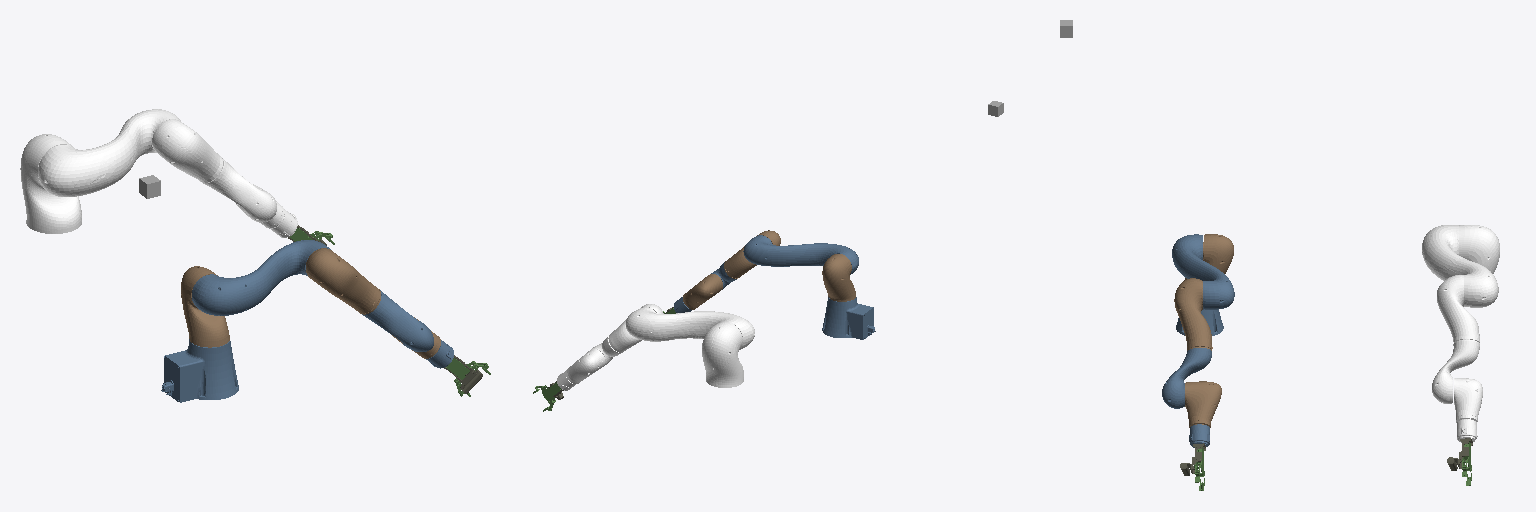
--- Render facts (derived) ---
3 views of the same robot in one strip: view 1: azimuth 30°, elevation 25°; view 2: azimuth 150°, elevation 25°; view 3: azimuth 270°, elevation 25° (orthographic).
Robot: hsr_co605_dual_arm_with_gripper — 34 links, 33 joints (12 revolute, 8 continuous, 13 fixed); root link world; default pose: all joints at 0 but 2 set to mid-range because 0 is outside their limits (joint_3 = 2.33, R_joint_3 = 2.33).
Visible links, largest first — view 1: R_link2, link2, base_link, R_link1, R_link3, link3, link1, R_link4, link4; view 2: R_link2, link2, R_link1, base_link, link1, link5, R_link5, link3, R_link3; view 3: R_link2, link2, link3, R_link3, R_link1, link5, R_link4, link4, R_link5, link1.
Link boxes in pixels (bbox=[...]): R_link2: bbox=[38, 109, 180, 196]; link2: bbox=[192, 240, 330, 315]; base_link: bbox=[161, 339, 238, 402]; R_link1: bbox=[20, 134, 81, 233]; R_link3: bbox=[152, 119, 222, 182]; link3: bbox=[306, 248, 380, 314]; link1: bbox=[181, 266, 229, 347]; R_link4: bbox=[203, 158, 276, 222]; link4: bbox=[362, 290, 433, 351]; R_link2: bbox=[626, 307, 754, 349]; link2: bbox=[743, 235, 858, 274]; R_link1: bbox=[702, 321, 743, 387]; base_link: bbox=[822, 297, 875, 339]; link1: bbox=[822, 254, 855, 301]; link5: bbox=[683, 274, 722, 309]; R_link5: bbox=[566, 349, 604, 383]; link3: bbox=[724, 230, 780, 278]; R_link3: bbox=[608, 304, 663, 352]; R_link2: bbox=[1422, 225, 1498, 307]; link2: bbox=[1172, 234, 1234, 309]; link3: bbox=[1174, 278, 1212, 350]; R_link3: bbox=[1437, 275, 1479, 342]; R_link1: bbox=[1459, 225, 1499, 273]; link5: bbox=[1185, 381, 1221, 427]; R_link4: bbox=[1432, 340, 1479, 403]; link4: bbox=[1162, 348, 1211, 408]; R_link5: bbox=[1454, 378, 1482, 422]; link1: bbox=[1184, 234, 1233, 280].
Bounding box of the posed robot: 1.54 × 1.65 × 1.27 m (x, y, z).
Meshes: 22 distinct files referenced, 29 mesh visuals loaded (21 binary STL); not drawn: 1 (reference not matched to a file when rendering).

robot.urdf — hsr_co605_dual_arm_with_gripper:
<?xml version="1.0" ?>
<!-- =================================================================================== -->
<!-- |    This document was autogenerated by xacro from co605_dual_arm_with_gripper.xacro | -->
<!-- |    EDITING THIS FILE BY HAND IS NOT RECOMMENDED                                 | -->
<!-- =================================================================================== -->
<robot name="hsr_co605_dual_arm_with_gripper" xmlns:xacro="http://ros.org/wiki/xacro">
  <link name="world"/>
  <joint name="fixed" type="fixed">
    <parent link="world"/>
    <child link="base_link"/>
    <origin rpy="0 0 0" xyz="0 0 1"/>
  </joint>
  <joint name="fixed2" type="fixed">
    <parent link="world"/>
    <child link="base_link2"/>
    <origin rpy="0 0 0" xyz="0.025 1 1"/>
  </joint>
  <link name="base_link">
    <inertial>
      <origin rpy="0 0 0" xyz="-0.021912 3.5206E-07 0.072666"/>
      <mass value="3.5836"/>
      <inertia ixx="2.9136E-05" ixy="-2.1811E-09" ixz="-0.00010967" iyy="0.00060536" iyz="-4.5389E-10" izz="0.000578"/>
    </inertial>
    <visual>
      <origin rpy="0 0 0" xyz="0 0 0"/>
      <geometry>
        <mesh filename="package://hsr_description/meshes/co605/base_link.STL"/>
      </geometry>
      <material name="">
        <color rgba="0.4 0.5 0.6 1"/>
      </material>
    </visual>
    <collision>
      <origin rpy="0 0 0" xyz="0 0 0"/>
      <geometry>
        <mesh filename="package://hsr_description/meshes/co605/base_link.STL"/>
      </geometry>
    </collision>
  </link>
  <link name="base_link2">
    <inertial>
      <origin rpy="0 0 0" xyz="-0.0024613 5.2375E-07 0.076752"/>
      <mass value="4.8818"/>
      <inertia ixx="0" ixy="0" ixz="0" iyy="0" iyz="0" izz="0"/>
    </inertial>
    <visual>
      <origin rpy="0 0 0" xyz="0 0 0"/>
      <geometry>
        <mesh filename="package://hsr_co602a_gaihou/meshes/base_link.STL"/>
      </geometry>
      <material name="">
        <color rgba="1 1 1 1"/>
      </material>
    </visual>
    <collision>
      <origin rpy="0 0 0" xyz="0 0 0"/>
      <geometry>
        <mesh filename="package://hsr_co602a_gaihou/meshes/base_link.STL"/>
      </geometry>
    </collision>
  </link>
  <!--  -->
  <link name="link1">
    <inertial>
      <origin rpy="0 0 0" xyz="6.6053E-07 -0.041864 0.057461"/>
      <mass value="2.2858"/>
      <inertia ixx="0.0028736" ixy="-1.2977E-08" ixz="-1.1421E-08" iyy="0.0012558" iyz="-0.0014242" izz="0.001619"/>
    </inertial>
    <visual>
      <origin rpy="0 0 0" xyz="0 0 0"/>
      <geometry>
        <mesh filename="package://hsr_description/meshes/co605/link1.STL"/>
      </geometry>
      <material name="">
        <color rgba="0.6 0.5 0.4 1"/>
      </material>
    </visual>
    <collision>
      <origin rpy="0 0 0" xyz="0 0 0"/>
      <geometry>
        <mesh filename="package://hsr_description/meshes/co605/link1.STL"/>
      </geometry>
    </collision>
  </link>
  <joint name="joint_1" type="revolute">
    <origin rpy="-3.1416 5.9903E-29 -1.4937E-16" xyz="0 0 0.3215"/>
    <parent link="base_link"/>
    <child link="link1"/>
    <axis xyz="0 0 -1"/>
    <limit effort="28" lower="-3.490658503988" upper="3.490658503988" velocity="3.2"/>
    <safety_controller k_position="100" k_velocity="10" soft_lower_limit="-3.481931857728" soft_upper_limit="3.481931857728"/>
  </joint>
  <link name="link2">
    <inertial>
      <origin rpy="0 0 0" xyz="1.0568E-05 -0.1934 0.0072764"/>
      <mass value="3.9796"/>
      <inertia ixx="0.024928" ixy="-9.3143E-07" ixz="4.2908E-07" iyy="0.0049988" iyz="0.0099684" izz="0.019932"/>
    </inertial>
    <visual>
      <origin rpy="0 0 0" xyz="0 0 0"/>
      <geometry>
        <mesh filename="package://hsr_description/meshes/co605/link2.STL"/>
      </geometry>
      <material name="">
        <color rgba="0.4 0.5 0.6 1"/>
      </material>
    </visual>
    <collision>
      <origin rpy="0 0 0" xyz="0 0 0"/>
      <geometry>
        <mesh filename="package://hsr_description/meshes/co605/link2.STL"/>
      </geometry>
    </collision>
  </link>
  <joint name="joint_2" type="revolute">
    <origin rpy="1.5708 -1.5708 0" xyz="0 0 0"/>
    <parent link="link1"/>
    <child link="link2"/>
    <axis xyz="0 0 1"/>
    <limit effort="28" lower="-2.268928027592" upper="1" velocity="3.2"/>
    <safety_controller k_position="100" k_velocity="10" soft_lower_limit="-2.260201381332" soft_upper_limit="1"/>
  </joint>
  <link name="link3">
    <inertial>
      <origin rpy="0 0 0" xyz="-4.1646E-06 -0.084864 -0.023661"/>
      <mass value="2.3017"/>
      <inertia ixx="0.0050619" ixy="1.9871E-07" ixz="-9.377E-08" iyy="0.00080339" iyz="0.0014584" izz="0.0043189"/>
    </inertial>
    <visual>
      <origin rpy="0 0 0" xyz="0 0 0"/>
      <geometry>
        <mesh filename="package://hsr_description/meshes/co605/link3.STL"/>
      </geometry>
      <material name="">
        <color rgba="0.6 0.5 0.4 1"/>
      </material>
    </visual>
    <collision>
      <origin rpy="0 0 0" xyz="0 0 0"/>
      <geometry>
        <mesh filename="package://hsr_description/meshes/co605/link3.STL"/>
      </geometry>
    </collision>
  </link>
  <joint name="joint_3" type="revolute">
    <origin rpy="-7.0321E-15 1.0327E-14 -1.5708" xyz="0 -0.4 0"/>
    <parent link="link2"/>
    <child link="link3"/>
    <axis xyz="0 0 1"/>
    <limit effort="28" lower="1" upper="3.665191429188" velocity="3.2"/>
    <safety_controller k_position="100" k_velocity="10" soft_lower_limit="0.008726646259" soft_upper_limit="3.656464782928"/>
  </joint>
  <link name="link4">
    <inertial>
      <origin rpy="0 0 0" xyz="0.058545 -4.4729E-06 0.33207"/>
      <mass value="1.1696"/>
      <inertia ixx="0.00052342" ixy="-2.9755E-08" ixz="-0.0004967" iyy="0.00099547" iyz="-3.1299E-08" izz="0.00047263"/>
    </inertial>
    <visual>
      <origin rpy="0 0 0" xyz="0 0 0"/>
      <geometry>
        <mesh filename="package://hsr_description/meshes/co605/link4.STL"/>
      </geometry>
      <material name="">
        <color rgba="0.4 0.5 0.6 1"/>
      </material>
    </visual>
    <collision>
      <origin rpy="0 0 0" xyz="0 0 0"/>
      <geometry>
        <mesh filename="package://hsr_description/meshes/co605/link4.STL"/>
      </geometry>
    </collision>
  </link>
  <joint name="joint_4" type="revolute">
    <origin rpy="1.5708 1.5708 0" xyz="0 0 0"/>
    <parent link="link3"/>
    <child link="link4"/>
    <axis xyz="0 0 1"/>
    <limit effort="28" lower="-1.0" upper="3.0" velocity="3.2"/>
    <safety_controller k_position="100" k_velocity="10" soft_lower_limit="-3.0" soft_upper_limit="3.0"/>
  </joint>
  <link name="link5">
    <inertial>
      <origin rpy="0 0 0" xyz="-1.4755E-07 -0.034466 0.0044663"/>
      <mass value="1.4115"/>
      <inertia ixx="0.0015897" ixy="-6.782E-09" ixz="-1.3146E-08" iyy="0.0006121" iyz="-0.00040625" izz="0.00097818"/>
    </inertial>
    <visual>
      <origin rpy="0 0 0" xyz="0 0 0"/>
      <geometry>
        <mesh filename="package://hsr_description/meshes/co605/link5.STL"/>
      </geometry>
      <material name="">
        <color rgba="0.6 0.5 0.4 1"/>
      </material>
    </visual>
    <collision>
      <origin rpy="0 0 0" xyz="0 0 0"/>
      <geometry>
        <mesh filename="package://hsr_description/meshes/co605/link5.STL"/>
      </geometry>
    </collision>
  </link>
  <joint name="joint_5" type="revolute">
    <origin rpy="-1.5708 -3.2281E-16 1.5708" xyz="0 0 0.4"/>
    <parent link="link4"/>
    <child link="link5"/>
    <axis xyz="0 0 1"/>
    <limit effort="28" lower="-2.268928027592" upper="2.268928027592" velocity="3.2"/>
    <safety_controller k_position="100" k_velocity="10" soft_lower_limit="-2.260201381332" soft_upper_limit="2.260201381332"/>
  </joint>
  <link name="link6">
    <inertial>
      <origin rpy="0 0 0" xyz="-9.6295E-05 0.00016669 -0.035518"/>
      <mass value="0.30888"/>
      <inertia ixx="8.8278E-05" ixy="-1.1971E-06" ixz="3.4899E-07" iyy="8.9661E-05" iyz="-6.0395E-07" izz="5.5013E-06"/>
    </inertial>
    <visual>
      <origin rpy="0 0 0" xyz="0 0 0"/>
      <geometry>
        <mesh filename="package://hsr_description/meshes/co605/link6.STL"/>
      </geometry>
      <material name="">
        <color rgba="0.4 0.5 0.6 1"/>
      </material>
    </visual>
    <collision>
      <origin rpy="0 0 0" xyz="0 0 0"/>
      <geometry>
        <mesh filename="package://hsr_description/meshes/co605/link6.STL"/>
      </geometry>
    </collision>
  </link>
  <joint name="joint_6" type="revolute">
    <origin rpy="-1.5708 2.7756E-17 -3.1416" xyz="0 -0.205 0"/>
    <parent link="link5"/>
    <child link="link6"/>
    <axis xyz="0 0 1"/>
    <limit effort="28" lower="-5.1" upper="5.1" velocity="3.2"/>
    <safety_controller k_position="100" k_velocity="10" soft_lower_limit="-5.1" soft_upper_limit="5.1"/>
  </joint>
  <!--    -->
  <link name="R_link1">
    <inertial>
      <origin rpy="0 0 0" xyz="-3.5083E-06 -0.029409 0.065583"/>
      <mass value="4.9043"/>
      <inertia ixx="0" ixy="0" ixz="0" iyy="0" iyz="0" izz="0"/>
    </inertial>
    <visual>
      <origin rpy="0 0 0" xyz="0 0 0"/>
      <geometry>
        <mesh filename="package://hsr_co602a_gaihou/meshes/Link1.STL"/>
      </geometry>
      <material name="">
        <color rgba="1 1 1 1"/>
      </material>
    </visual>
    <collision>
      <origin rpy="0 0 0" xyz="0 0 0"/>
      <geometry>
        <mesh filename="package://hsr_co602a_gaihou/meshes/Link1.STL"/>
      </geometry>
    </collision>
  </link>
  <joint name="R_joint_1" type="revolute">
    <origin rpy="3.1416 0 -8.3267E-17" xyz="0 0 0.3517"/>
    <parent link="base_link2"/>
    <child link="R_link1"/>
    <axis xyz="0 0 -1"/>
    <limit effort="28" lower="-3.490658503988" upper="3.490658503988" velocity="3.2"/>
    <safety_controller k_position="100" k_velocity="10" soft_lower_limit="-3.481931857728" soft_upper_limit="3.481931857728"/>
  </joint>
  <link name="R_link2">
    <inertial>
      <origin rpy="0 0 0" xyz="4.8764E-06 -0.17949 -0.038569"/>
      <mass value="6.5305"/>
      <inertia ixx="0" ixy="0" ixz="0" iyy="0" iyz="0" izz="0"/>
    </inertial>
    <visual>
      <origin rpy="0 0 0" xyz="0 0 0"/>
      <geometry>
        <mesh filename="package://hsr_co602a_gaihou/meshes/Link2.STL"/>
      </geometry>
      <material name="">
        <color rgba="1 1 1 1"/>
      </material>
    </visual>
    <collision>
      <origin rpy="0 0 0" xyz="0 0 0"/>
      <geometry>
        <mesh filename="package://hsr_co602a_gaihou/meshes/Link2.STL"/>
      </geometry>
    </collision>
  </link>
  <joint name="R_joint_2" type="revolute">
    <origin rpy="1.5708 -1.5708 0" xyz="0 0 0"/>
    <parent link="R_link1"/>
    <child link="R_link2"/>
    <axis xyz="0 0 1"/>
    <limit effort="28" lower="-2.268928027592" upper="1" velocity="3.2"/>
    <safety_controller k_position="100" k_velocity="10" soft_lower_limit="-2.260201381332" soft_upper_limit="1"/>
  </joint>
  <link name="R_link3">
    <inertial>
      <origin rpy="0 0 0" xyz="-4.0966E-05 -0.085254 -0.035956"/>
      <mass value="2.3223"/>
      <inertia ixx="0" ixy="0" ixz="0" iyy="0" iyz="0" izz="0"/>
    </inertial>
    <visual>
      <origin rpy="0 0 0" xyz="0 0 0"/>
      <geometry>
        <mesh filename="package://hsr_co602a_gaihou/meshes/Link3.STL"/>
      </geometry>
      <material name="">
        <color rgba="1 1 1 1"/>
      </material>
    </visual>
    <collision>
      <origin rpy="0 0 0" xyz="0 0 0"/>
      <geometry>
        <mesh filename="package://hsr_co602a_gaihou/meshes/Link3.STL"/>
      </geometry>
    </collision>
  </link>
  <joint name="R_joint_3" type="revolute">
    <origin rpy="-3.688E-17 1.4367E-17 -1.5708" xyz="0 -0.40061 0"/>
    <parent link="R_link2"/>
    <child link="R_link3"/>
    <axis xyz="0 0 1"/>
    <limit effort="28" lower="1" upper="3.665191429188" velocity="3.2"/>
    <safety_controller k_position="100" k_velocity="10" soft_lower_limit="0.008726646259" soft_upper_limit="3.656464782928"/>
  </joint>
  <link name="R_link4">
    <inertial>
      <origin rpy="0 0 0" xyz="0.049764 2.8231E-06 0.32133"/>
      <mass value="1.2629"/>
      <inertia ixx="0" ixy="0" ixz="0" iyy="0" iyz="0" izz="0"/>
    </inertial>
    <visual>
      <origin rpy="0 0 0" xyz="0 0 0"/>
      <geometry>
        <mesh filename="package://hsr_co602a_gaihou/meshes/Link4.STL"/>
      </geometry>
      <material name="">
        <color rgba="1 1 1 1"/>
      </material>
    </visual>
    <collision>
      <origin rpy="0 0 0" xyz="0 0 0"/>
      <geometry>
        <mesh filename="package://hsr_co602a_gaihou/meshes/Link4.STL"/>
      </geometry>
    </collision>
  </link>
  <joint name="R_joint_4" type="revolute">
    <origin rpy="1.2216 1.5708 -0.34916" xyz="0 -0.0023254 0"/>
    <parent link="R_link3"/>
    <child link="R_link4"/>
    <axis xyz="0 0 1"/>
    <limit effort="28" lower="-3.0" upper="1.0" velocity="3.2"/>
    <safety_controller k_position="100" k_velocity="10" soft_lower_limit="-3.0" soft_upper_limit="3.0"/>
  </joint>
  <link name="R_link5">
    <inertial>
      <origin rpy="0 0 0" xyz="1.3212E-06 -0.042021 0.0022165"/>
      <mass value="1.1452"/>
      <inertia ixx="0" ixy="0" ixz="0" iyy="0" iyz="0" izz="0"/>
    </inertial>
    <visual>
      <origin rpy="0 0 0" xyz="0 0 0"/>
      <geometry>
        <mesh filename="package://hsr_co602a_gaihou/meshes/Link5.STL"/>
      </geometry>
      <material name="">
        <color rgba="1 1 1 1"/>
      </material>
    </visual>
    <collision>
      <origin rpy="0 0 0" xyz="0 0 0"/>
      <geometry>
        <mesh filename="package://hsr_co602a_gaihou/meshes/Link5.STL"/>
      </geometry>
    </collision>
  </link>
  <joint name="R_joint_5" type="revolute">
    <origin rpy="-1.5708 -1.4529E-17 1.5708" xyz="0 0 0.39859"/>
    <parent link="R_link4"/>
    <child link="R_link5"/>
    <axis xyz="0 0 1"/>
    <limit effort="28" lower="-2.268928027592" upper="2.268928027592" velocity="3.2"/>
    <safety_controller k_position="100" k_velocity="10" soft_lower_limit="-2.260201381332" soft_upper_limit="2.260201381332"/>
  </joint>
  <link name="R_link6">
    <inertial>
      <origin rpy="0 0 0" xyz="3.5784E-05 -3.8806E-05 -0.025197"/>
      <mass value="0.20458"/>
      <inertia ixx="0" ixy="0" ixz="0" iyy="0" iyz="0" izz="0"/>
    </inertial>
    <visual>
      <origin rpy="0 0 0" xyz="0 0 0"/>
      <geometry>
        <mesh filename="package://hsr_co602a_gaihou/meshes/Link6.STL"/>
      </geometry>
      <material name="">
        <color rgba="1 1 1 1"/>
      </material>
    </visual>
    <collision>
      <origin rpy="0 0 0" xyz="0 0 0"/>
      <geometry>
        <mesh filename="package://hsr_co602a_gaihou/meshes/Link6.STL"/>
      </geometry>
    </collision>
  </link>
  <joint name="R_joint_6" type="revolute">
    <origin rpy="-1.5708 2.4478E-17 -3.1416" xyz="0 -0.20056 0"/>
    <parent link="R_link5"/>
    <child link="R_link6"/>
    <axis xyz="0 0 1"/>
    <limit effort="28" lower="-5.1" upper="5.1" velocity="3.2"/>
    <safety_controller k_position="100" k_velocity="10" soft_lower_limit="-5.1" soft_upper_limit="5.1"/>
  </joint>
  <!-- Size of square 'camera' box -->
  <link name="camera_link">
    <collision>
      <origin rpy="0 0 0" xyz="0 0 0"/>
      <geometry>
        <box size="0.05 0.05 0.05"/>
      </geometry>
    </collision>
    <visual>
      <origin rpy="0 0 0" xyz="0 0 0"/>
      <geometry>
        <box size="0.05 0.05 0.05"/>
      </geometry>
      <material name="red"/>
    </visual>
    <inertial>
      <mass value="1e-5"/>
      <origin rpy="0 0 0" xyz="0 0 0"/>
      <inertia ixx="1e-6" ixy="0" ixz="0" iyy="1e-6" iyz="0" izz="1e-6"/>
    </inertial>
  </link>
  <!-- kinect -->
  <gazebo reference="camera_link">
    <sensor name="openni_camera_camera" type="depth">
      <always_on>1</always_on>
      <visualize>true</visualize>
      <camera>
        <horizontal_fov>1.047</horizontal_fov>
        <image>
          <width>640</width>
          <height>480</height>
          <format>B8G8R8</format>
        </image>
        <depth_camera>

            </depth_camera>
        <clip>
          <near>0.1</near>
          <far>100</far>
        </clip>
      </camera>
      <plugin filename="libgazebo_ros_openni_kinect.so" name="camera_controller">
        <alwaysOn>true</alwaysOn>
        <baseline>0.2</baseline>
        <updateRate>30</updateRate>
        <cameraName>camera</cameraName>
        <frameName>kinect_frame</frameName>
        <imageTopicName>rgb/image_raw</imageTopicName>
        <depthImageTopicName>depth/image_raw</depthImageTopicName>
        <pointCloudTopicName>depth/points</pointCloudTopicName>
        <cameraInfoTopicName>rgb/camera_info</cameraInfoTopicName>
        <depthImageCameraInfoTopicName>depth/camera_info</depthImageCameraInfoTopicName>
        <pointCloudCutoff>0.5</pointCloudCutoff>
        <distortionK1>0</distortionK1>
        <distortionK2>0</distortionK2>
        <distortionK3>0</distortionK3>
        <distortionT1>0</distortionT1>
        <distortionT2>0</distortionT2>
        <CxPrime>0.0</CxPrime>
        <Cx>0.0</Cx>
        <Cy>0.0</Cy>
        <focalLength>0.0</focalLength>
      </plugin>
    </sensor>
  </gazebo>
  <link name="gripper_base_link_0">
    <inertial>
      <origin rpy="0 0 0" xyz="0.000131706391042187 -0.0390683856464977 0.081199520192839"/>
      <mass value="0.145677232438391"/>
      <inertia ixx="8.40495062422861E-05" ixy="-6.82136717259575E-07" ixz="9.08788702310012E-07" iyy="4.96036917958725E-05" iyz="3.95062698042515E-05" izz="3.44803015215572E-05"/>
    </inertial>
    <visual>
      <origin rpy="0 0 0" xyz="0 0 0"/>
      <geometry>
        <mesh filename="package://hsr_description/meshes/eye_hand_gripper/base_link.STL"/>
      </geometry>
      <material name="">
        <color rgba="0.4 0.4 0.35 1"/>
      </material>
    </visual>
    <collision>
      <origin rpy="0 0 0" xyz="0 0 0"/>
      <geometry>
        <mesh filename="package://hsr_description/meshes/eye_hand_gripper/base_link.STL"/>
      </geometry>
    </collision>
  </link>
  <link name="grisper_boby_link_0">
    <inertial>
      <origin rpy="0 0 0" xyz="2.84228059294067E-05 -0.000875529500481004 -0.00997402814116276"/>
      <mass value="0.0387962759306602"/>
      <inertia ixx="0" ixy="0" ixz="0" iyy="0" iyz="0" izz="0"/>
    </inertial>
    <visual>
      <origin rpy="0 0 0" xyz="0 0 0"/>
      <geometry>
        <mesh filename="package://hsr_description/meshes/eye_hand_gripper/grisper_boby_link.STL"/>
      </geometry>
      <material name="">
        <color rgba="0.4 0.55 0.35 1"/>
      </material>
    </visual>
    <collision>
      <origin rpy="0 0 0" xyz="0 0 0"/>
      <geometry>
        <mesh filename="package://hsr_description/meshes/eye_hand_gripper/grisper_boby_link.STL"/>
      </geometry>
    </collision>
  </link>
  <joint name="grisper_boby_joint_0" type="fixed">
    <origin rpy="1.5708 1.3479E-15 1.3852E-15" xyz="0 -0.01 0.064"/>
    <parent link="gripper_base_link_0"/>
    <child link="grisper_boby_link_0"/>
    <axis xyz="0 0 0"/>
  </joint>
  <link name="right_finger_1_link_0">
    <inertial>
      <origin rpy="0 0 0" xyz="-2.92388038200531E-06 0.0168231601122346 0.0089790044607883"/>
      <mass value="0.00235032514171626"/>
      <inertia ixx="0" ixy="0" ixz="0" iyy="0" iyz="0" izz="0"/>
    </inertial>
    <visual>
      <origin rpy="0 0 0" xyz="0 0 0"/>
      <geometry>
        <mesh filename="package://hsr_description/meshes/eye_hand_gripper/right_finger_1_link.STL"/>
      </geometry>
      <material name="">
        <color rgba="0.4 0.55 0.35 1"/>
      </material>
    </visual>
    <collision>
      <origin rpy="0 0 0" xyz="0 0 0"/>
      <geometry>
        <mesh filename="package://hsr_description/meshes/eye_hand_gripper/right_finger_1_link.STL"/>
      </geometry>
    </collision>
  </link>
  <joint name="right_finger_1_joint_0" type="continuous">
    <origin rpy="0 0 -0.501740656078991" xyz="0.04 0.036 -0.019"/>
    <parent link="grisper_boby_link_0"/>
    <child link="right_finger_1_link_0"/>
    <axis xyz="0 0 1"/>
  </joint>
  <link name="right_finger_2_link_0">
    <inertial>
      <origin rpy="0 0 0" xyz="-0.0085798133911776 0.00661394976740351 0.00600000756322747"/>
      <mass value="0.00200167864656235"/>
      <inertia ixx="0" ixy="0" ixz="0" iyy="0" iyz="0" izz="0"/>
    </inertial>
    <visual>
      <origin rpy="0 0 0" xyz="0 0 0"/>
      <geometry>
        <mesh filename="package://hsr_description/meshes/eye_hand_gripper/right_finger_2_link.STL"/>
      </geometry>
      <material name="">
        <color rgba="0.4 0.55 0.35 1"/>
      </material>
    </visual>
    <collision>
      <origin rpy="0 0 0" xyz="0 0 0"/>
      <geometry>
        <mesh filename="package://hsr_description/meshes/eye_hand_gripper/right_finger_2_link.STL"/>
      </geometry>
    </collision>
  </link>
  <joint name="right_finger_2_joint_0" type="continuous">
    <origin rpy="0 0 0.501740656078991" xyz="0 0.042 0.00300000000000001"/>
    <parent link="right_finger_1_link_0"/>
    <child link="right_finger_2_link_0"/>
    <axis xyz="0 0 1"/>
  </joint>
  <link name="right_finger_end_link_0">
    <inertial>
      <origin rpy="0 0 0" xyz="-0.0181096606742553 0.00899999232533871 0.000419374358405108"/>
      <mass value="0.00169081070175499"/>
      <inertia ixx="0" ixy="0" ixz="0" iyy="0" iyz="0" izz="0"/>
    </inertial>
    <visual>
      <origin rpy="0 0 0" xyz="0 0 0"/>
      <geometry>
        <mesh filename="package://hsr_description/meshes/eye_hand_gripper/right_finger_end_link.STL"/>
      </geometry>
      <material name="">
        <color rgba="0.4 0.55 0.35 1"/>
      </material>
    </visual>
    <collision>
      <origin rpy="0 0 0" xyz="0 0 0"/>
      <geometry>
        <mesh filename="package://hsr_description/meshes/eye_hand_gripper/right_finger_end_link.STL"/>
      </geometry>
    </collision>
  </link>
  <joint name="right_finger_end_joint_0" type="fixed">
    <origin rpy="1.5707963267949 0 -1.5707963267949" xyz="-0.0145 -0.0035 -0.00300000000000001"/>
    <parent link="right_finger_2_link_0"/>
    <child link="right_finger_end_link_0"/>
    <axis xyz="0 0 0"/>
  </joint>
  <link name="left_finger_1_link_0">
    <inertial>
      <origin rpy="0 0 0" xyz="-2.92395601426965E-06 0.0168231599777492 0.00897900452955606"/>
      <mass value="0.0023503251697047"/>
      <inertia ixx="0" ixy="0" ixz="0" iyy="0" iyz="0" izz="0"/>
    </inertial>
    <visual>
      <origin rpy="0 0 0" xyz="0 0 0"/>
      <geometry>
        <mesh filename="package://hsr_description/meshes/eye_hand_gripper/left_finger_1_link.STL"/>
      </geometry>
      <material name="">
        <color rgba="0.4 0.55 0.35 1"/>
      </material>
    </visual>
    <collision>
      <origin rpy="0 0 0" xyz="0 0 0"/>
      <geometry>
        <mesh filename="package://hsr_description/meshes/eye_hand_gripper/left_finger_1_link.STL"/>
      </geometry>
    </collision>
  </link>
  <joint name="left_finger_1_joint_0" type="continuous">
    <origin rpy="0 0 0.501740656078991" xyz="-0.04 0.036 -0.019"/>
    <parent link="grisper_boby_link_0"/>
    <child link="left_finger_1_link_0"/>
    <axis xyz="0 0 1"/>
  </joint>
  <link name="left_finger_2_link_0">
    <inertial>
      <origin rpy="0 0 0" xyz="-0.00857981339117761 0.00661394976740348 0.00600000756322748"/>
      <mass value="0.00200167864656235"/>
      <inertia ixx="0" ixy="0" ixz="0" iyy="0" iyz="0" izz="0"/>
    </inertial>
    <visual>
      <origin rpy="0 0 0" xyz="0 0 0"/>
      <geometry>
        <mesh filename="package://hsr_description/meshes/eye_hand_gripper/left_finger_2_link.STL"/>
      </geometry>
      <material name="">
        <color rgba="0.4 0.55 0.35 1"/>
      </material>
    </visual>
    <collision>
      <origin rpy="0 0 0" xyz="0 0 0"/>
      <geometry>
        <mesh filename="package://hsr_description/meshes/eye_hand_gripper/left_finger_2_link.STL"/>
      </geometry>
    </collision>
  </link>
  <joint name="left_finger_2_joint_0" type="continuous">
    <origin rpy="3.14159265358979 0 2.6398519975108" xyz="0 0.0419999999999999 0.0149999999999995"/>
    <parent link="left_finger_1_link_0"/>
    <child link="left_finger_2_link_0"/>
    <axis xyz="0 0 1"/>
  </joint>
  <link name="left_finger_end_link_0">
    <inertial>
      <origin rpy="0 0 0" xyz="-0.0181096606742553 0.00899999232533872 0.000419374358405097"/>
      <mass value="0.00169081070175499"/>
      <inertia ixx="0" ixy="0" ixz="0" iyy="0" iyz="0" izz="0"/>
    </inertial>
    <visual>
      <origin rpy="0 0 0" xyz="0 0 0"/>
      <geometry>
        <mesh filename="package://hsr_description/meshes/eye_hand_gripper/left_finger_end_link.STL"/>
      </geometry>
      <material name="">
        <color rgba="0.4 0.55 0.35 1"/>
      </material>
    </visual>
    <collision>
      <origin rpy="0 0 0" xyz="0 0 0"/>
      <geometry>
        <mesh filename="package://hsr_description/meshes/eye_hand_gripper/left_finger_end_link.STL"/>
      </geometry>
    </collision>
  </link>
  <joint name="left_finger_end_joint_0" type="fixed">
    <origin rpy="1.5707963267949 8.67361737988403E-17 -1.5707963267949" xyz="-0.0144999999999999 -0.0035 -0.00299999999999996"/>
    <parent link="left_finger_2_link_0"/>
    <child link="left_finger_end_link_0"/>
    <axis xyz="0 0 0"/>
  </joint>
  <link name="pick_gripper_link_0">
    <visual>
      <origin rpy="0 0 0" xyz="0 0 0"/>
      <geometry>
        <box size="0.001 0.0005 0.0005"/>
      </geometry>
    </visual>
  </link>
  <transmission name="tran1_0">
    <type>transmission_interface/SimpleTransmission</type>
    <joint name="right_finger_1_joint_0">
      <hardwareInterface>PositionJointInterface</hardwareInterface>
    </joint>
    <actuator name="right_finger_1_motor_0">
      <hardwareInterface>PositionJointInterface</hardwareInterface>
      <mechanicalReduction>1</mechanicalReduction>
    </actuator>
  </transmission>
  <transmission name="tran2_0">
    <type>transmission_interface/SimpleTransmission</type>
    <joint name="right_finger_2_joint_0">
      <hardwareInterface>PositionJointInterface</hardwareInterface>
    </joint>
    <actuator name="right_finger_2_motor_0">
      <hardwareInterface>PositionJointInterface</hardwareInterface>
      <mechanicalReduction>1</mechanicalReduction>
    </actuator>
  </transmission>
  <transmission name="tran3_0">
    <type>transmission_interface/SimpleTransmission</type>
    <joint name="left_finger_1_joint_0">
      <hardwareInterface>PositionJointInterface</hardwareInterface>
    </joint>
    <actuator name="left_finger_1_motor_0">
      <hardwareInterface>PositionJointInterface</hardwareInterface>
      <mechanicalReduction>1</mechanicalReduction>
    </actuator>
  </transmission>
  <transmission name="tran4_0">
    <type>transmission_interface/SimpleTransmission</type>
    <joint name="left_finger_2_joint_0">
      <hardwareInterface>PositionJointInterface</hardwareInterface>
    </joint>
    <actuator name="left_finger_2_motor_0">
      <hardwareInterface>PositionJointInterface</hardwareInterface>
      <mechanicalReduction>1</mechanicalReduction>
    </actuator>
  </transmission>
  <link name="gripper_base_link_1">
    <inertial>
      <origin rpy="0 0 0" xyz="0.000131706391042187 -0.0390683856464977 0.081199520192839"/>
      <mass value="0.145677232438391"/>
      <inertia ixx="8.40495062422861E-05" ixy="-6.82136717259575E-07" ixz="9.08788702310012E-07" iyy="4.96036917958725E-05" iyz="3.95062698042515E-05" izz="3.44803015215572E-05"/>
    </inertial>
    <visual>
      <origin rpy="0 0 0" xyz="0 0 0"/>
      <geometry>
        <mesh filename="package://hsr_description/meshes/eye_hand_gripper/base_link.STL"/>
      </geometry>
      <material name="">
        <color rgba="0.4 0.4 0.35 1"/>
      </material>
    </visual>
    <collision>
      <origin rpy="0 0 0" xyz="0 0 0"/>
      <geometry>
        <mesh filename="package://hsr_description/meshes/eye_hand_gripper/base_link.STL"/>
      </geometry>
    </collision>
  </link>
  <link name="grisper_boby_link_1">
    <inertial>
      <origin rpy="0 0 0" xyz="2.84228059294067E-05 -0.000875529500481004 -0.00997402814116276"/>
      <mass value="0.0387962759306602"/>
      <inertia ixx="0" ixy="0" ixz="0" iyy="0" iyz="0" izz="0"/>
    </inertial>
    <visual>
      <origin rpy="0 0 0" xyz="0 0 0"/>
      <geometry>
        <mesh filename="package://hsr_description/meshes/eye_hand_gripper/grisper_boby_link.STL"/>
      </geometry>
      <material name="">
        <color rgba="0.4 0.55 0.35 1"/>
      </material>
    </visual>
    <collision>
      <origin rpy="0 0 0" xyz="0 0 0"/>
      <geometry>
        <mesh filename="package://hsr_description/meshes/eye_hand_gripper/grisper_boby_link.STL"/>
      </geometry>
    </collision>
  </link>
  <joint name="grisper_boby_joint_1" type="fixed">
    <origin rpy="1.5708 1.3479E-15 1.3852E-15" xyz="0 -0.01 0.064"/>
    <parent link="gripper_base_link_1"/>
    <child link="grisper_boby_link_1"/>
    <axis xyz="0 0 0"/>
  </joint>
  <link name="right_finger_1_link_1">
    <inertial>
      <origin rpy="0 0 0" xyz="-2.92388038200531E-06 0.0168231601122346 0.0089790044607883"/>
      <mass value="0.00235032514171626"/>
      <inertia ixx="0" ixy="0" ixz="0" iyy="0" iyz="0" izz="0"/>
    </inertial>
    <visual>
      <origin rpy="0 0 0" xyz="0 0 0"/>
      <geometry>
        <mesh filename="package://hsr_description/meshes/eye_hand_gripper/right_finger_1_link.STL"/>
      </geometry>
      <material name="">
        <color rgba="0.4 0.55 0.35 1"/>
      </material>
    </visual>
    <collision>
      <origin rpy="0 0 0" xyz="0 0 0"/>
      <geometry>
        <mesh filename="package://hsr_description/meshes/eye_hand_gripper/right_finger_1_link.STL"/>
      </geometry>
    </collision>
  </link>
  <joint name="right_finger_1_joint_1" type="continuous">
    <origin rpy="0 0 -0.501740656078991" xyz="0.04 0.036 -0.019"/>
    <parent link="grisper_boby_link_1"/>
    <child link="right_finger_1_link_1"/>
    <axis xyz="0 0 1"/>
  </joint>
  <link name="right_finger_2_link_1">
    <inertial>
      <origin rpy="0 0 0" xyz="-0.0085798133911776 0.00661394976740351 0.00600000756322747"/>
      <mass value="0.00200167864656235"/>
      <inertia ixx="0" ixy="0" ixz="0" iyy="0" iyz="0" izz="0"/>
    </inertial>
    <visual>
      <origin rpy="0 0 0" xyz="0 0 0"/>
      <geometry>
        <mesh filename="package://hsr_description/meshes/eye_hand_gripper/right_finger_2_link.STL"/>
      </geometry>
      <material name="">
        <color rgba="0.4 0.55 0.35 1"/>
      </material>
    </visual>
    <collision>
      <origin rpy="0 0 0" xyz="0 0 0"/>
      <geometry>
        <mesh filename="package://hsr_description/meshes/eye_hand_gripper/right_finger_2_link.STL"/>
      </geometry>
    </collision>
  </link>
  <joint name="right_finger_2_joint_1" type="continuous">
    <origin rpy="0 0 0.501740656078991" xyz="0 0.042 0.00300000000000001"/>
    <parent link="right_finger_1_link_1"/>
    <child link="right_finger_2_link_1"/>
    <axis xyz="0 0 1"/>
  </joint>
  <link name="right_finger_end_link_1">
    <inertial>
      <origin rpy="0 0 0" xyz="-0.0181096606742553 0.00899999232533871 0.000419374358405108"/>
      <mass value="0.00169081070175499"/>
      <inertia ixx="0" ixy="0" ixz="0" iyy="0" iyz="0" izz="0"/>
    </inertial>
    <visual>
      <origin rpy="0 0 0" xyz="0 0 0"/>
      <geometry>
        <mesh filename="package://hsr_description/meshes/eye_hand_gripper/right_finger_end_link.STL"/>
      </geometry>
      <material name="">
        <color rgba="0.4 0.55 0.35 1"/>
      </material>
    </visual>
    <collision>
      <origin rpy="0 0 0" xyz="0 0 0"/>
      <geometry>
        <mesh filename="package://hsr_description/meshes/eye_hand_gripper/right_finger_end_link.STL"/>
      </geometry>
    </collision>
  </link>
  <joint name="right_finger_end_joint_1" type="fixed">
    <origin rpy="1.5707963267949 0 -1.5707963267949" xyz="-0.0145 -0.0035 -0.00300000000000001"/>
    <parent link="right_finger_2_link_1"/>
    <child link="right_finger_end_link_1"/>
    <axis xyz="0 0 0"/>
  </joint>
  <link name="left_finger_1_link_1">
    <inertial>
      <origin rpy="0 0 0" xyz="-2.92395601426965E-06 0.0168231599777492 0.00897900452955606"/>
      <mass value="0.0023503251697047"/>
      <inertia ixx="0" ixy="0" ixz="0" iyy="0" iyz="0" izz="0"/>
    </inertial>
    <visual>
      <origin rpy="0 0 0" xyz="0 0 0"/>
      <geometry>
        <mesh filename="package://hsr_description/meshes/eye_hand_gripper/left_finger_1_link.STL"/>
      </geometry>
      <material name="">
        <color rgba="0.4 0.55 0.35 1"/>
      </material>
    </visual>
    <collision>
      <origin rpy="0 0 0" xyz="0 0 0"/>
      <geometry>
        <mesh filename="package://hsr_description/meshes/eye_hand_gripper/left_finger_1_link.STL"/>
      </geometry>
    </collision>
  </link>
  <joint name="left_finger_1_joint_1" type="continuous">
    <origin rpy="0 0 0.501740656078991" xyz="-0.04 0.036 -0.019"/>
    <parent link="grisper_boby_link_1"/>
    <child link="left_finger_1_link_1"/>
    <axis xyz="0 0 1"/>
  </joint>
  <link name="left_finger_2_link_1">
    <inertial>
      <origin rpy="0 0 0" xyz="-0.00857981339117761 0.00661394976740348 0.00600000756322748"/>
      <mass value="0.00200167864656235"/>
      <inertia ixx="0" ixy="0" ixz="0" iyy="0" iyz="0" izz="0"/>
    </inertial>
    <visual>
      <origin rpy="0 0 0" xyz="0 0 0"/>
      <geometry>
        <mesh filename="package://hsr_description/meshes/eye_hand_gripper/left_finger_2_link.STL"/>
      </geometry>
      <material name="">
        <color rgba="0.4 0.55 0.35 1"/>
      </material>
    </visual>
    <collision>
      <origin rpy="0 0 0" xyz="0 0 0"/>
      <geometry>
        <mesh filename="package://hsr_description/meshes/eye_hand_gripper/left_finger_2_link.STL"/>
      </geometry>
    </collision>
  </link>
  <joint name="left_finger_2_joint_1" type="continuous">
    <origin rpy="3.14159265358979 0 2.6398519975108" xyz="0 0.0419999999999999 0.0149999999999995"/>
    <parent link="left_finger_1_link_1"/>
    <child link="left_finger_2_link_1"/>
    <axis xyz="0 0 1"/>
  </joint>
  <link name="left_finger_end_link_1">
    <inertial>
      <origin rpy="0 0 0" xyz="-0.0181096606742553 0.00899999232533872 0.000419374358405097"/>
      <mass value="0.00169081070175499"/>
      <inertia ixx="0" ixy="0" ixz="0" iyy="0" iyz="0" izz="0"/>
    </inertial>
    <visual>
      <origin rpy="0 0 0" xyz="0 0 0"/>
      <geometry>
        <mesh filename="package://hsr_description/meshes/eye_hand_gripper/left_finger_end_link.STL"/>
      </geometry>
      <material name="">
        <color rgba="0.4 0.55 0.35 1"/>
      </material>
    </visual>
    <collision>
      <origin rpy="0 0 0" xyz="0 0 0"/>
      <geometry>
        <mesh filename="package://hsr_description/meshes/eye_hand_gripper/left_finger_end_link.STL"/>
      </geometry>
    </collision>
  </link>
  <joint name="left_finger_end_joint_1" type="fixed">
    <origin rpy="1.5707963267949 8.67361737988403E-17 -1.5707963267949" xyz="-0.0144999999999999 -0.0035 -0.00299999999999996"/>
    <parent link="left_finger_2_link_1"/>
    <child link="left_finger_end_link_1"/>
    <axis xyz="0 0 0"/>
  </joint>
  <link name="pick_gripper_link_1">
    <visual>
      <origin rpy="0 0 0" xyz="0 0 0"/>
      <geometry>
        <box size="0.001 0.0005 0.0005"/>
      </geometry>
    </visual>
  </link>
  <transmission name="tran1_1">
    <type>transmission_interface/SimpleTransmission</type>
    <joint name="right_finger_1_joint_1">
      <hardwareInterface>PositionJointInterface</hardwareInterface>
    </joint>
    <actuator name="right_finger_1_motor_1">
      <hardwareInterface>PositionJointInterface</hardwareInterface>
      <mechanicalReduction>1</mechanicalReduction>
    </actuator>
  </transmission>
  <transmission name="tran2_1">
    <type>transmission_interface/SimpleTransmission</type>
    <joint name="right_finger_2_joint_1">
      <hardwareInterface>PositionJointInterface</hardwareInterface>
    </joint>
    <actuator name="right_finger_2_motor_1">
      <hardwareInterface>PositionJointInterface</hardwareInterface>
      <mechanicalReduction>1</mechanicalReduction>
    </actuator>
  </transmission>
  <transmission name="tran3_1">
    <type>transmission_interface/SimpleTransmission</type>
    <joint name="left_finger_1_joint_1">
      <hardwareInterface>PositionJointInterface</hardwareInterface>
    </joint>
    <actuator name="left_finger_1_motor_1">
      <hardwareInterface>PositionJointInterface</hardwareInterface>
      <mechanicalReduction>1</mechanicalReduction>
    </actuator>
  </transmission>
  <transmission name="tran4_1">
    <type>transmission_interface/SimpleTransmission</type>
    <joint name="left_finger_2_joint_1">
      <hardwareInterface>PositionJointInterface</hardwareInterface>
    </joint>
    <actuator name="left_finger_2_motor_1">
      <hardwareInterface>PositionJointInterface</hardwareInterface>
      <mechanicalReduction>1</mechanicalReduction>
    </actuator>
  </transmission>
  <!--///////////////////////////////////////////////////////////////////////-->
  <joint name="gripper_robot_joint_0" type="fixed">
    <parent link="link6"/>
    <child link="gripper_base_link_0"/>
    <origin rpy="0 0 3.3161255788" xyz="0.0 0.0 0.0"/>
  </joint>
  <joint name="pick_gripper_joint_0" type="fixed">
    <origin rpy="0 -1.5708 1.5708" xyz="0 0.0 0.15"/>
    <axis xyz="0 0 1"/>
    <parent link="gripper_base_link_0"/>
    <child link="pick_gripper_link_0"/>
  </joint>
  <!--<//////////////////////////////////////////////////////////////////>-->
  <joint name="gripper_robot_joint_1" type="fixed">
    <parent link="R_link6"/>
    <child link="gripper_base_link_1"/>
    <origin rpy="0 0 3.3161255788" xyz="0.0 0.0 0.0"/>
  </joint>
  <joint name="pick_gripper_joint_1" type="fixed">
    <origin rpy="0 -1.5708 1.5708" xyz="0 0.0 0.15"/>
    <axis xyz="0 0 1"/>
    <parent link="gripper_base_link_1"/>
    <child link="pick_gripper_link_1"/>
  </joint>
  <joint name="kinect_base_link_joint" type="fixed">
    <origin rpy=" 0 0 0" xyz="-0.5 -0.5 2"/>
    <parent link="world"/>
    <child link="camera_link"/>
  </joint>
</robot>
